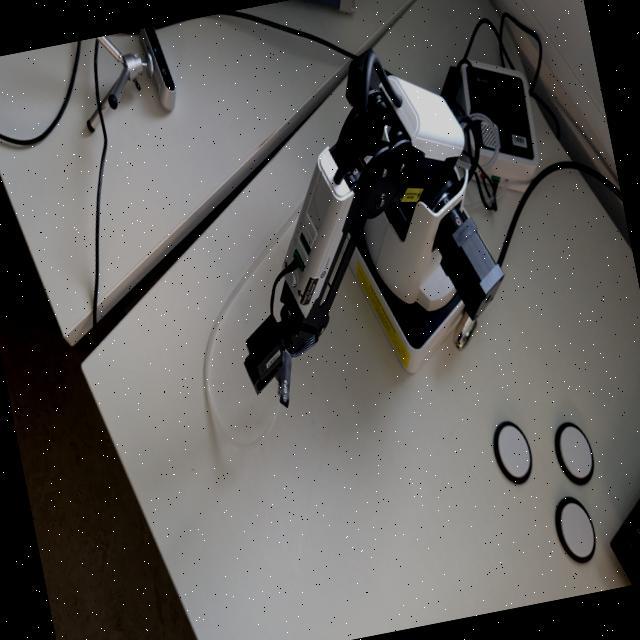Robot-end-effector-HF8z: (230, 301, 304, 416)
